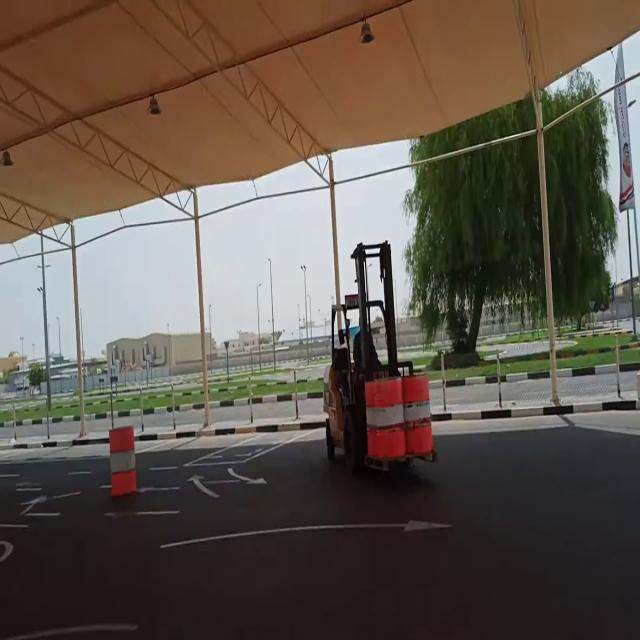Chariot elevateur: (316, 291, 422, 486)
